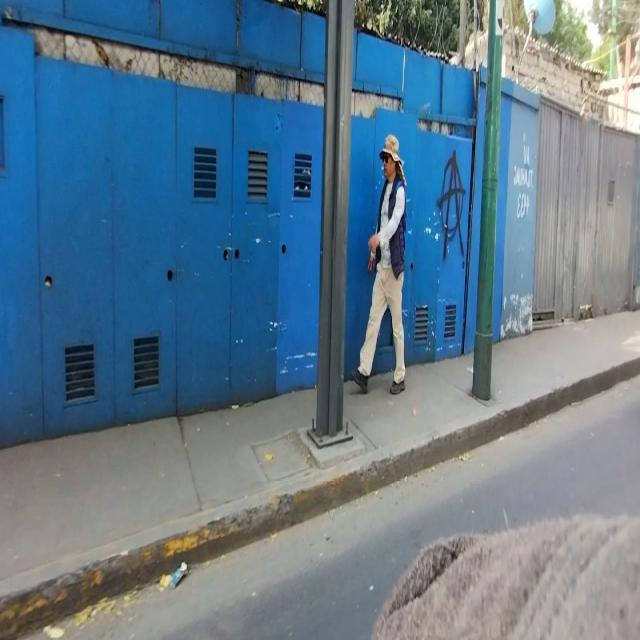adult: (351, 138, 408, 397)
